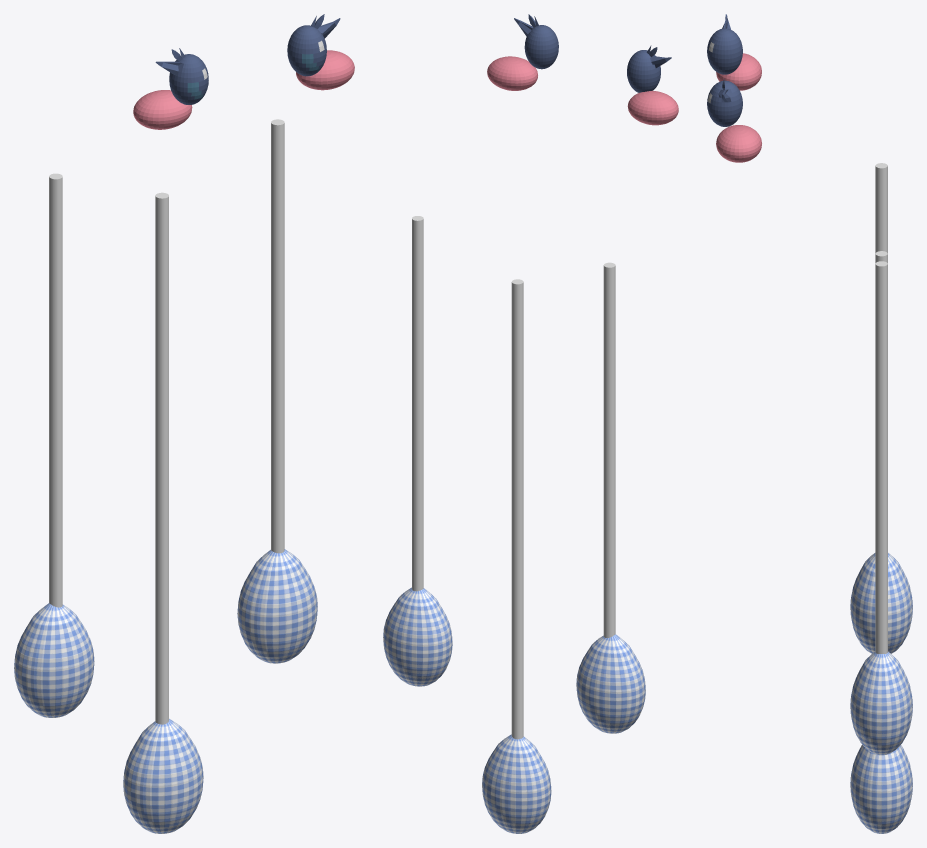
The model's file is （日记本3）挂件云(1).fbx.
The picture shows the model from 3 angles, left to right: view 1: azimuth 30°, elevation 25°; view 2: azimuth 150°, elevation 25°; view 3: azimuth 270°, elevation 25°; orthographic projection. The views are drawn at different scales.
Visible parts, largest first — view 1: 柱体.001, 球体, 球体.009, 球体.008, 柱体.002, 柱体, 球体.005, 球体.004, 球体.006, 球体.007; view 2: 柱体.001, 球体, 球体.009, 球体.008, 柱体, 柱体.002, 球体.005, 球体.006, 球体.007, 球体.004; view 3: 柱体.002, 球体.009, 球体.008, 球体, 球体.004, 球体.007, 球体.005, 柱体, 球体.006.
Boxes of the visible parts, x1=… form: 柱体.001: x1=155, y1=192, x2=168, y2=724; 球体: x1=14, y1=603, x2=94, y2=717; 球体.009: x1=237, y1=549, x2=317, y2=663; 球体.008: x1=123, y1=718, x2=203, y2=833; 柱体.002: x1=271, y1=119, x2=284, y2=553; 柱体: x1=49, y1=173, x2=62, y2=607; 球体.005: x1=287, y1=14, x2=340, y2=76; 球体.004: x1=155, y1=48, x2=208, y2=104; 球体.006: x1=133, y1=90, x2=192, y2=129; 球体.007: x1=296, y1=50, x2=354, y2=90; 柱体.001: x1=511, y1=279, x2=523, y2=739; 球体: x1=576, y1=634, x2=645, y2=733; 球体.009: x1=383, y1=587, x2=452, y2=686; 球体.008: x1=482, y1=734, x2=551, y2=833; 柱体: x1=603, y1=262, x2=615, y2=637; 柱体.002: x1=412, y1=216, x2=423, y2=591; 球体.005: x1=514, y1=14, x2=558, y2=69; 球体.006: x1=627, y1=90, x2=678, y2=125; 球体.007: x1=487, y1=56, x2=537, y2=90; 球体.004: x1=627, y1=45, x2=671, y2=92; 柱体.002: x1=875, y1=261, x2=887, y2=653; 球体.009: x1=850, y1=651, x2=912, y2=755; 球体.008: x1=850, y1=745, x2=912, y2=833; 球体: x1=850, y1=553, x2=912, y2=653; 球体.004: x1=707, y1=14, x2=742, y2=74; 球体.007: x1=716, y1=125, x2=761, y2=162; 球体.005: x1=707, y1=79, x2=742, y2=126; 柱体: x1=875, y1=163, x2=887, y2=253; 球体.006: x1=716, y1=53, x2=761, y2=90.
Size of the model in its own units: 163 by 454 by 108.
6 materials, 1 textured.
